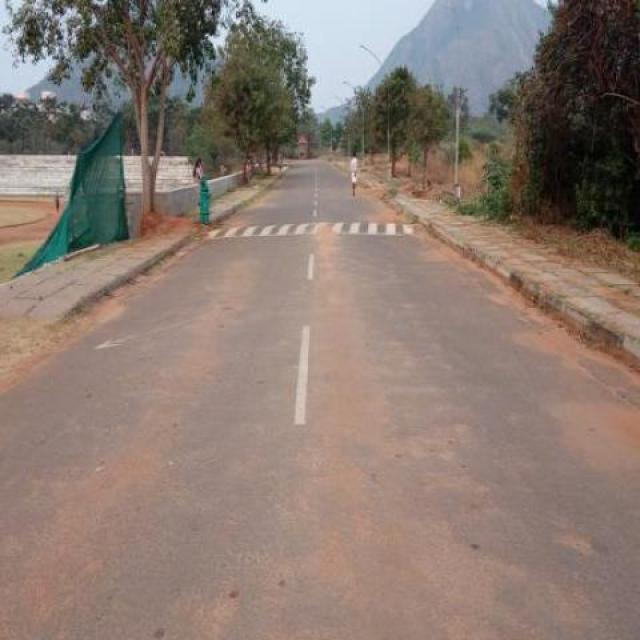Speed Bump: (208, 214, 422, 240)
